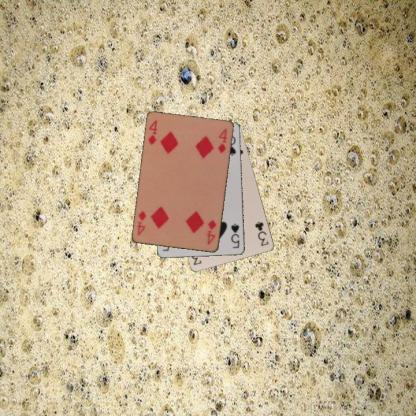3c: (252, 219, 270, 247)
4d: (204, 217, 218, 246), (145, 117, 159, 146)
5s: (229, 221, 241, 250)
